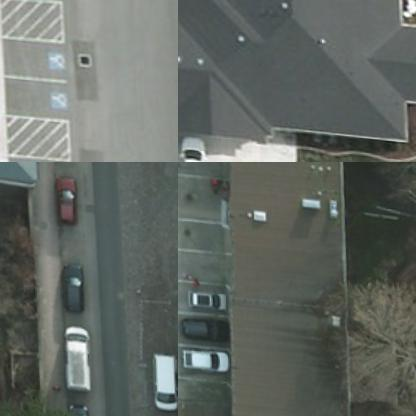car: (55, 256, 84, 310), (178, 308, 225, 340), (178, 338, 226, 368), (50, 170, 78, 219), (178, 283, 224, 308), (178, 131, 205, 161), (57, 398, 90, 415)
van: (55, 320, 89, 388), (149, 348, 177, 404)
